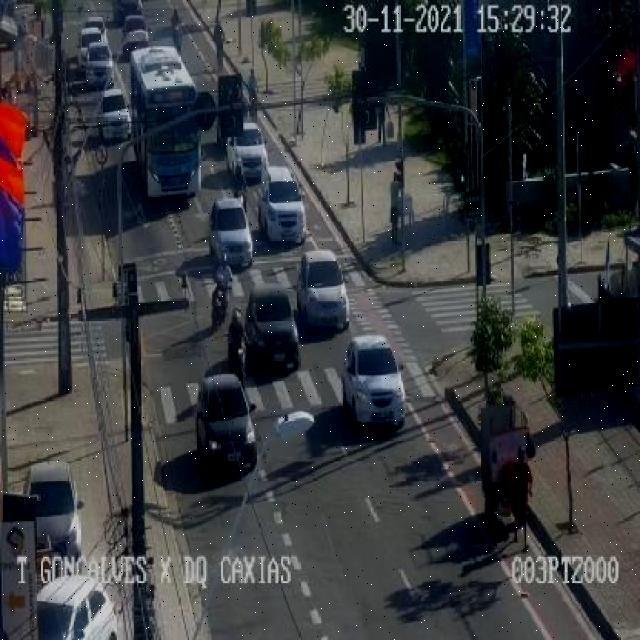Bus: (129, 47, 205, 198)
Car: (194, 373, 258, 475), (22, 461, 83, 562), (341, 335, 405, 429), (36, 575, 123, 639), (242, 284, 300, 374), (296, 250, 347, 332), (257, 166, 304, 242), (208, 196, 253, 270), (226, 123, 268, 184), (98, 88, 131, 142), (83, 42, 115, 89), (120, 11, 150, 54), (80, 26, 107, 64)
Cycle: (248, 98, 258, 121)
